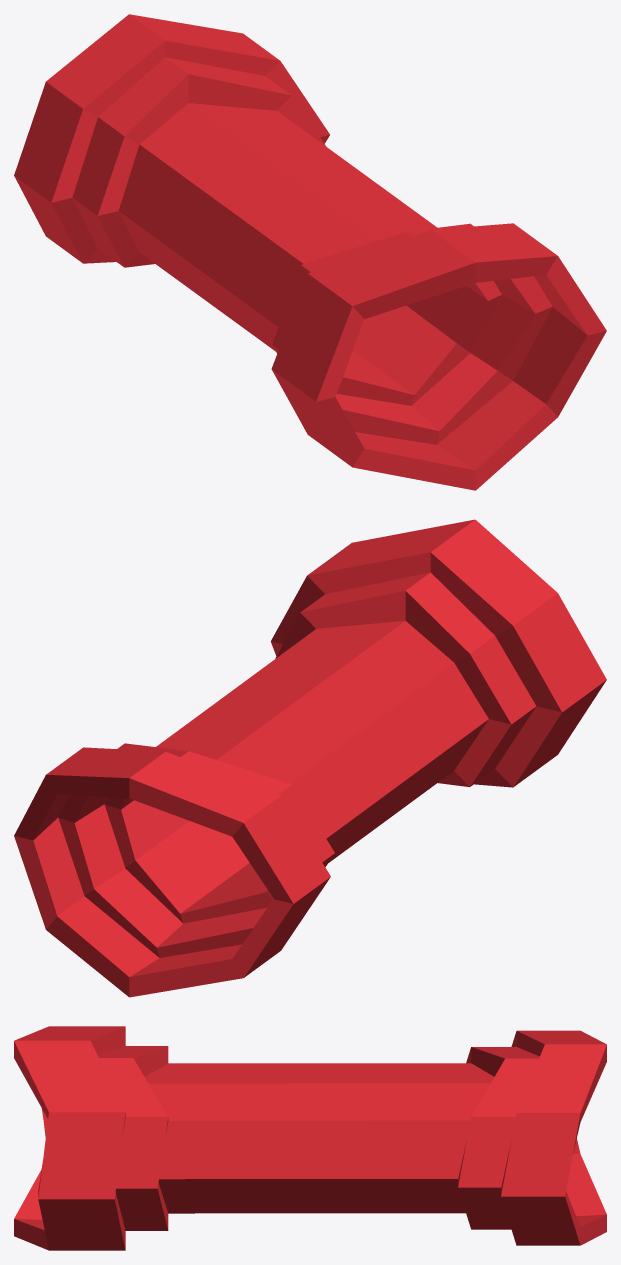
Rendered from Player_Wrist.glb.
The picture shows the model from 3 angles, top to bottom: view 1: azimuth 30°, elevation 25°; view 2: azimuth 150°, elevation 25°; view 3: azimuth 270°, elevation 25°; orthographic projection. The views are drawn at different scales.
Visible parts, largest first — view 1: Cylinder; view 2: Cylinder; view 3: Cylinder.
Part boxes in pixels (x1,y1,x2,y2): Cylinder: (14,14,606,490); Cylinder: (14,519,606,997); Cylinder: (14,1026,606,1250).
Bounding box in the file's own units: 0.0751 × 0.0563 × 0.1547.
